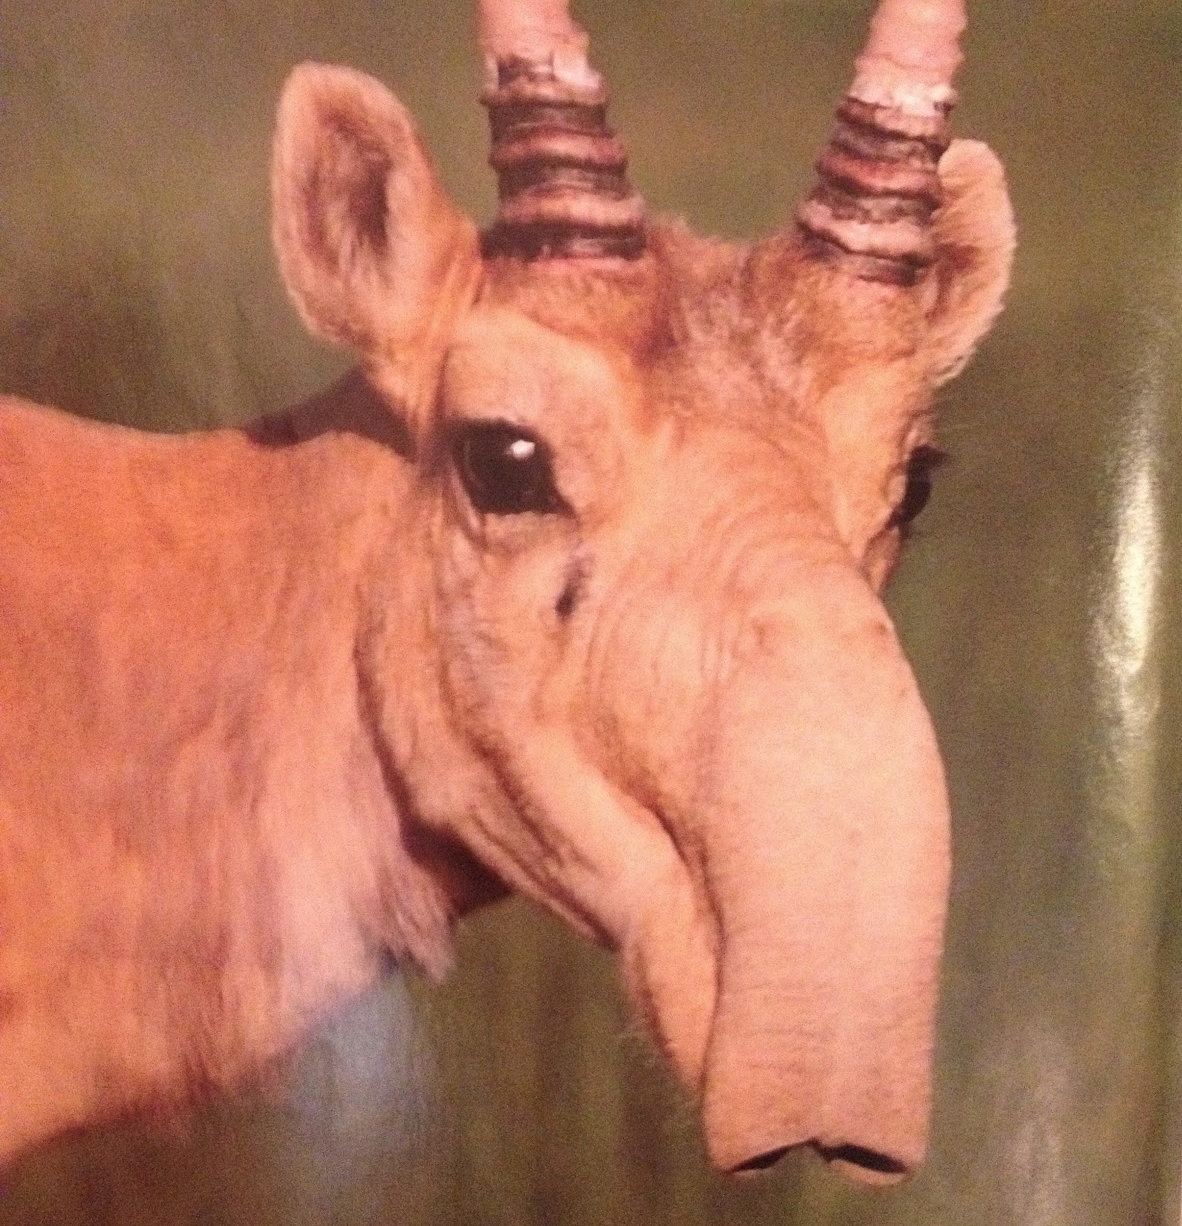saiga: (4, 7, 1031, 1208)
